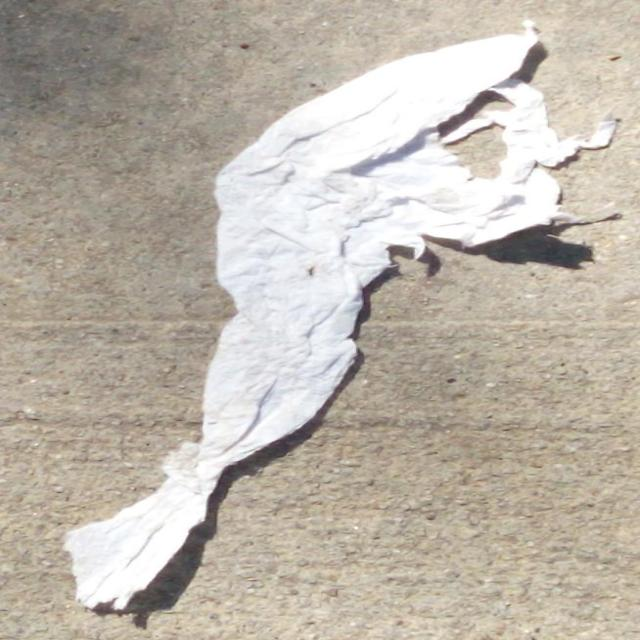litter: (65, 24, 618, 613)
